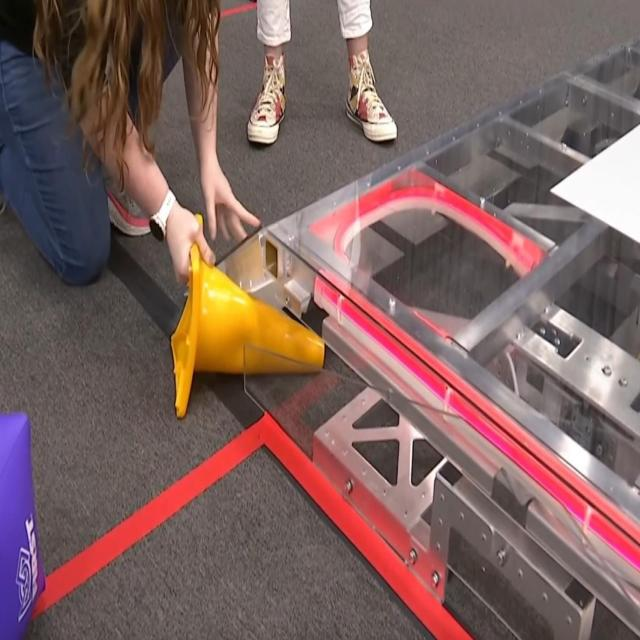frc_cone: (169, 237, 324, 423)
frc_cube: (0, 407, 45, 640)
